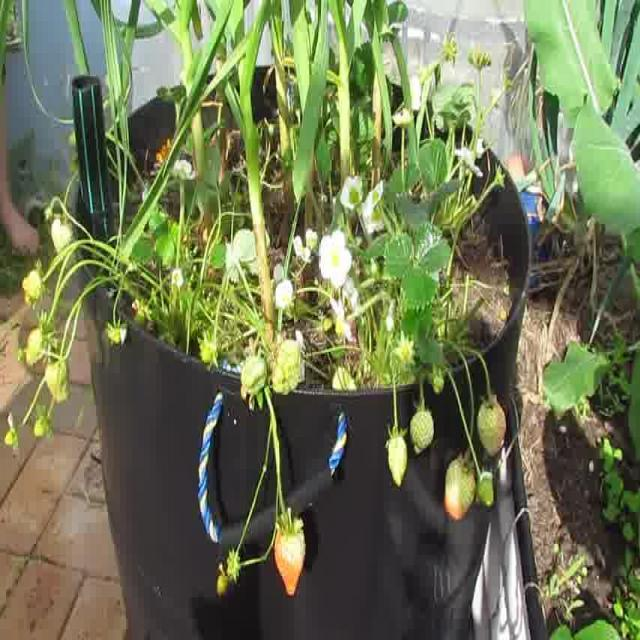Fruta sana: (273, 508, 306, 598), (476, 394, 506, 456), (270, 339, 300, 395), (46, 341, 70, 403), (26, 311, 54, 364), (24, 260, 48, 312), (241, 353, 272, 392), (21, 258, 49, 300), (332, 364, 357, 392), (476, 471, 494, 508), (34, 405, 54, 438), (226, 544, 240, 586), (134, 298, 152, 324), (4, 424, 18, 448), (108, 320, 120, 346), (216, 574, 228, 598), (432, 370, 444, 394), (67, 125, 80, 146), (69, 153, 82, 173), (44, 202, 53, 221), (323, 316, 333, 332), (18, 344, 26, 362)
Moho gris: (444, 448, 476, 520), (384, 427, 409, 489), (410, 407, 434, 455)
Oído: (51, 213, 73, 254)
